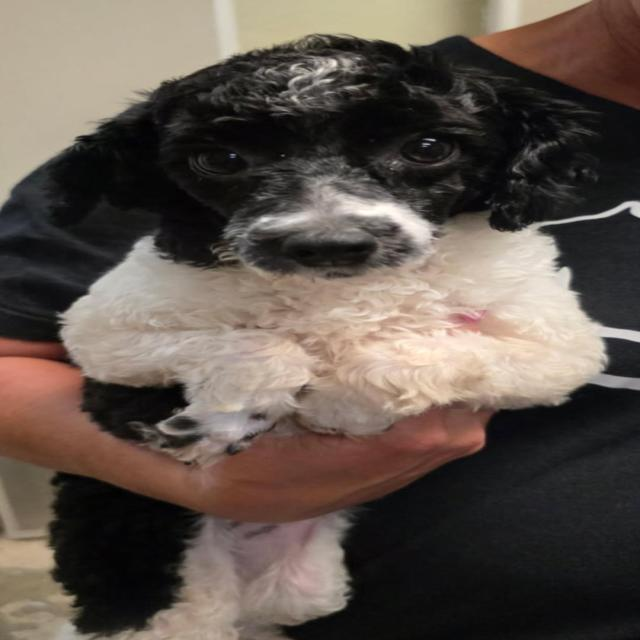Poodle_dog: (32, 31, 640, 290)
